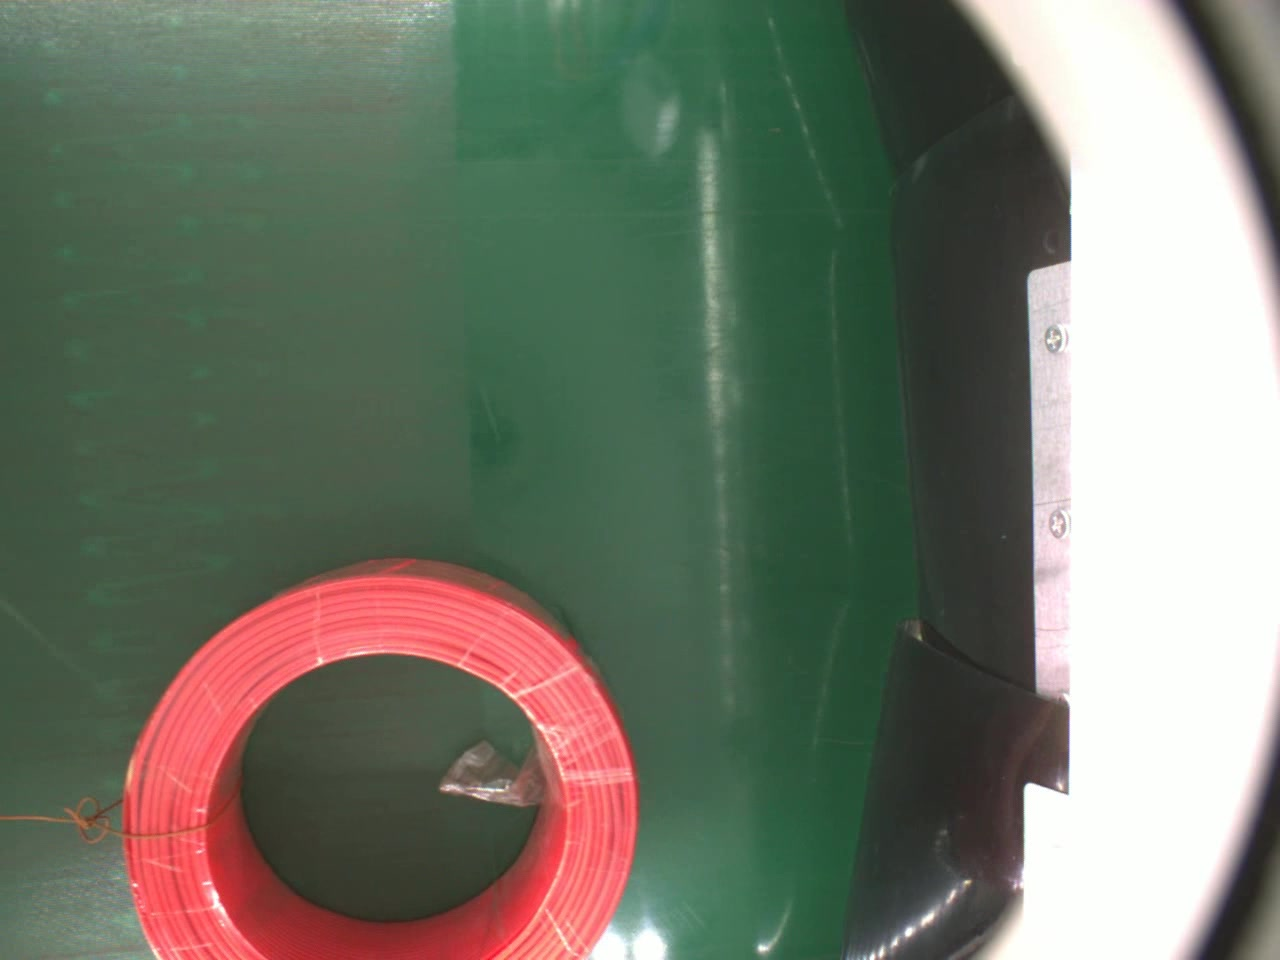red: (119, 556, 644, 960)
